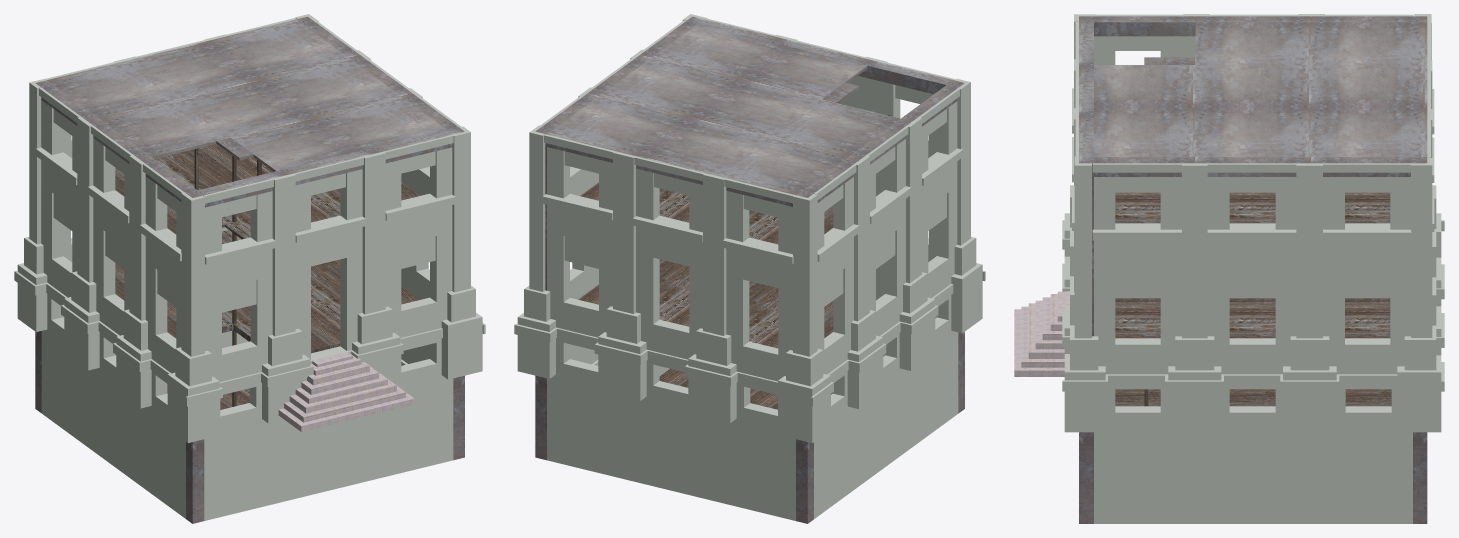
File: BagBuilding4_140.fbx
The picture shows the model from 3 angles, left to right: view 1: azimuth 30°, elevation 25°; view 2: azimuth 150°, elevation 25°; view 3: azimuth 270°, elevation 25°; orthographic projection. The views are drawn at different scales.
Parts seen in each view (by area): view 1: mainA140, roofA140, floorsA140, floorsB140; view 2: mainA140, roofA140, floorsA140; view 3: mainA140, roofA140, floorsA140, floorsB140.
Boxes of the visible parts, x1,y1,x2,y2 form: mainA140: [14, 14, 485, 520]; roofA140: [35, 16, 464, 523]; floorsA140: [115, 144, 419, 409]; floorsB140: [278, 351, 414, 431]; mainA140: [514, 14, 985, 520]; roofA140: [535, 16, 964, 523]; floorsA140: [578, 103, 890, 409]; mainA140: [1062, 14, 1444, 523]; roofA140: [1079, 16, 1427, 523]; floorsA140: [1115, 192, 1391, 406]; floorsB140: [1014, 291, 1069, 376].
Size of the model in its own units: 18.44 by 19.22 by 20.78.
